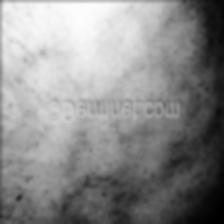Unclassified: (79, 128, 93, 154), (10, 188, 26, 208)
